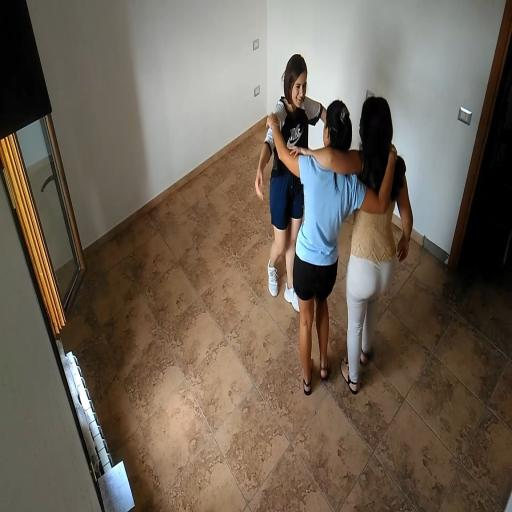nao-violencia: (244, 26, 422, 410)
